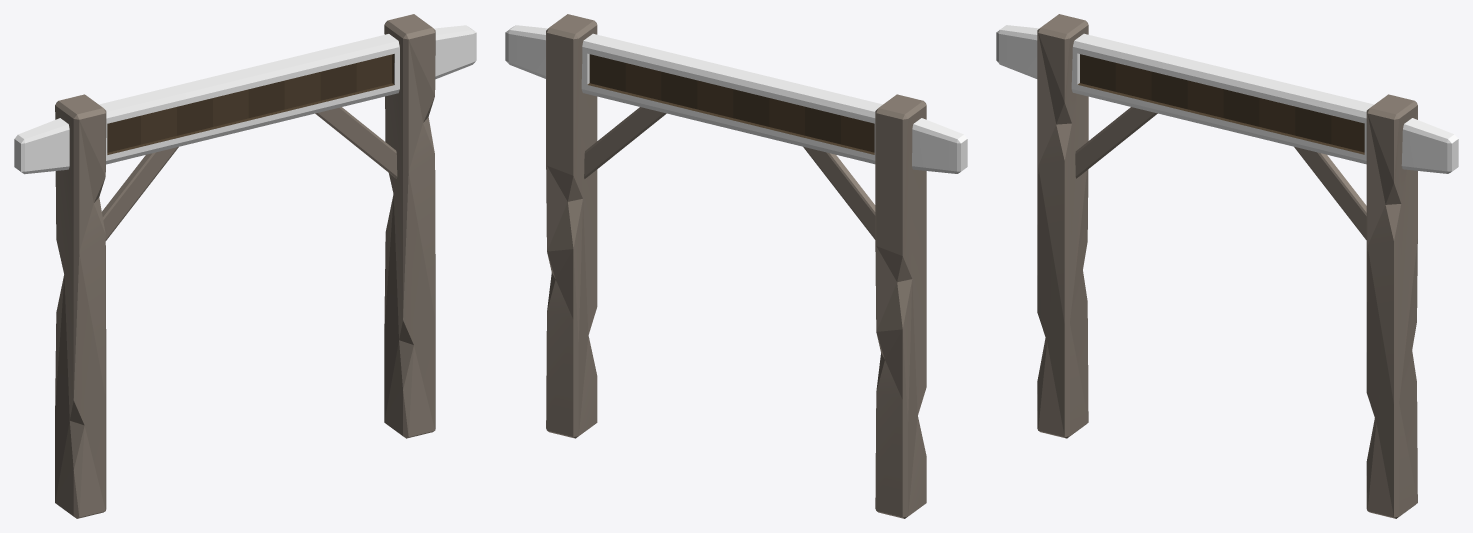
File: Entrada_01.glb
The picture shows the model from 3 angles, left to right: view 1: azimuth 30°, elevation 25°; view 2: azimuth 150°, elevation 25°; view 3: azimuth 330°, elevation 25°; orthographic projection.
Parts seen in each view (by area): view 1: SM_Prop_Archway_01_1; view 2: SM_Prop_Archway_01_1; view 3: SM_Prop_Archway_01_1.
Boxes of the visible parts, x1,y1,x2,y2 form: SM_Prop_Archway_01_1: (14, 14, 476, 518); SM_Prop_Archway_01_1: (505, 14, 967, 518); SM_Prop_Archway_01_1: (996, 14, 1458, 518).
Bounding box in the file's own units: 3.4 × 2.88 × 0.2974.
1 material, 1 textured.
